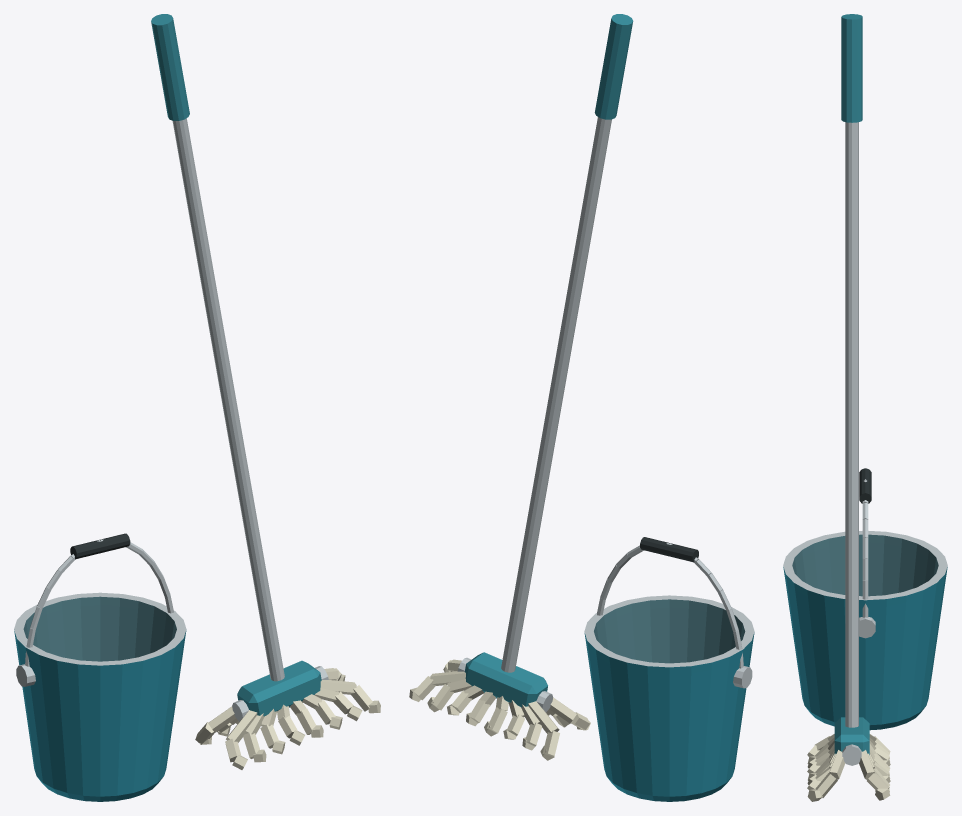
File: 09_bucket_with_mop.glb
3 views of the same model, side by side, from view 1: azimuth 30°, elevation 25°; view 2: azimuth 150°, elevation 25°; view 3: azimuth 270°, elevation 25° (orthographic). The views are drawn at different scales.
Visible parts, largest first — view 1: Bucket, Mop; view 2: Bucket, Mop; view 3: Bucket, Mop.
Part boxes in pixels (x1,y1,x2,y2): Bucket: (14, 533, 186, 801); Mop: (151, 14, 380, 769); Bucket: (584, 537, 754, 801); Mop: (409, 14, 633, 760); Bucket: (783, 468, 947, 730); Mop: (807, 14, 890, 801).
Bounding box in the file's own units: 0.6875 × 1.49 × 0.308.
